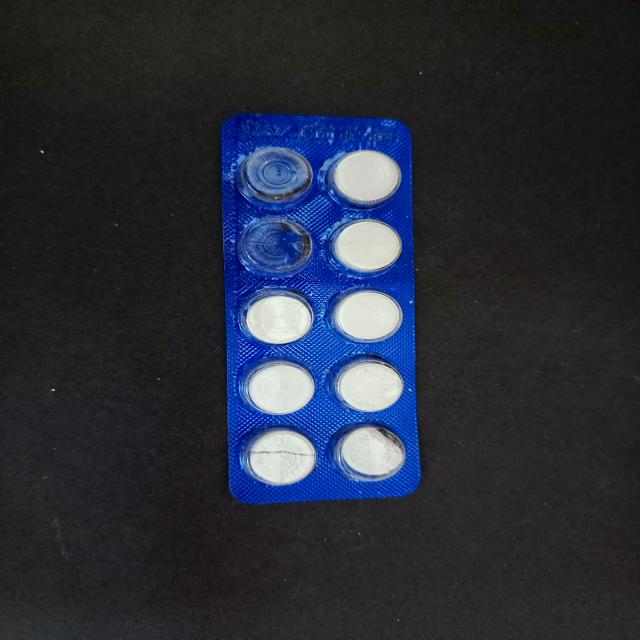defect: (233, 143, 315, 210), (328, 420, 409, 486), (232, 217, 316, 279), (241, 424, 320, 488)
